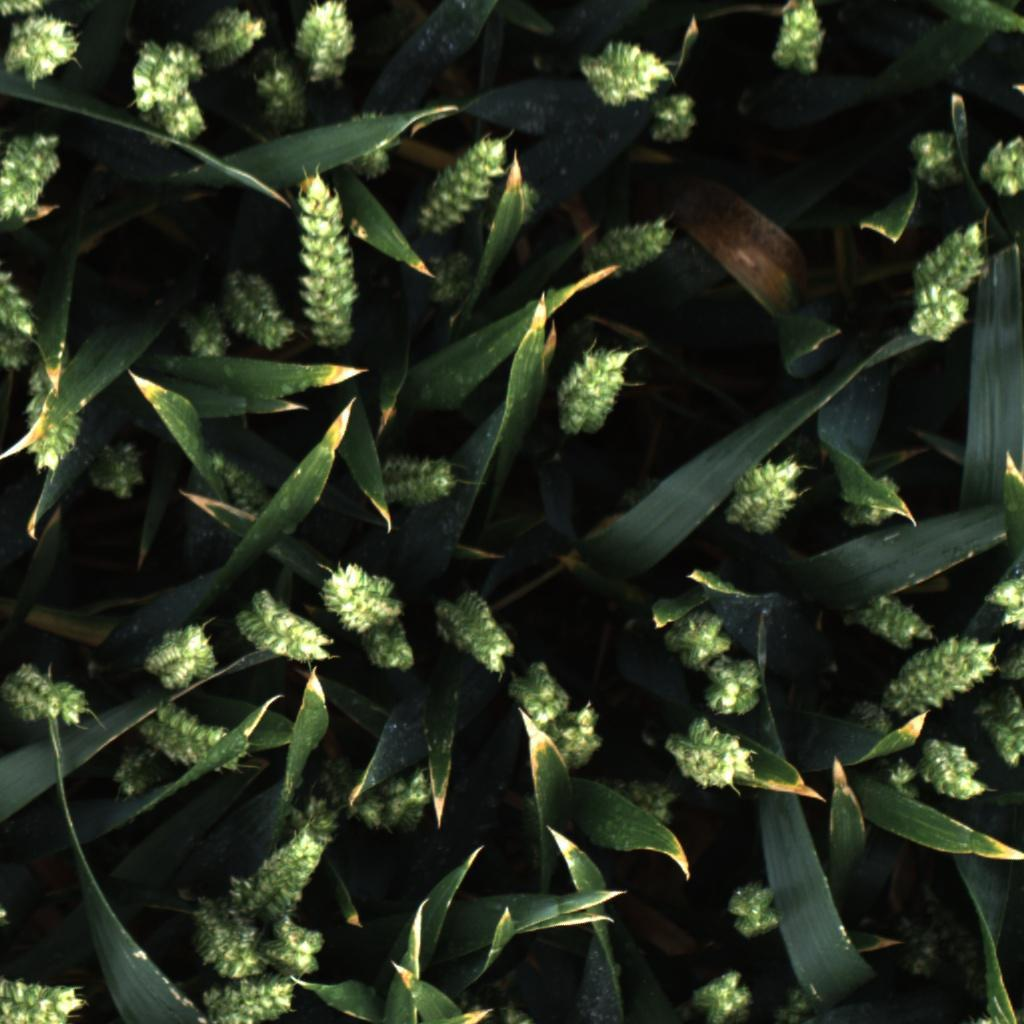0-0: (289, 174, 368, 347), (120, 38, 212, 152), (878, 636, 994, 722), (23, 326, 88, 476), (415, 134, 513, 231), (136, 698, 252, 776), (236, 822, 336, 908), (233, 587, 332, 669), (576, 36, 682, 112), (577, 208, 684, 283), (658, 721, 762, 798), (435, 581, 521, 673), (553, 347, 636, 441), (312, 551, 411, 628), (717, 456, 811, 536), (222, 266, 300, 355), (285, 0, 361, 89), (328, 104, 408, 188), (0, 15, 86, 88), (0, 131, 67, 223), (191, 902, 270, 979), (199, 967, 305, 1024), (936, 895, 1002, 986), (763, 0, 836, 81), (138, 623, 226, 690), (505, 658, 579, 735), (850, 582, 933, 650), (194, 0, 274, 70), (913, 219, 992, 288), (873, 907, 937, 991), (374, 448, 457, 512), (546, 699, 617, 773), (658, 601, 740, 665), (360, 769, 439, 835), (209, 444, 278, 519), (906, 122, 976, 195), (591, 778, 684, 832), (0, 972, 96, 1024), (247, 40, 308, 119), (719, 877, 793, 941), (698, 658, 775, 719), (916, 735, 986, 802), (687, 961, 760, 1024), (264, 910, 330, 978), (836, 470, 912, 529), (108, 738, 175, 802), (354, 614, 417, 681), (87, 441, 152, 504), (909, 282, 971, 348), (419, 248, 485, 310), (976, 683, 1024, 767), (643, 86, 708, 147), (172, 306, 236, 365), (0, 663, 61, 724), (0, 248, 39, 343), (977, 128, 1024, 203), (839, 697, 899, 742), (983, 566, 1024, 629), (509, 175, 549, 237), (53, 679, 97, 735), (765, 985, 825, 1024), (881, 758, 925, 804), (0, 323, 37, 375), (1000, 626, 1024, 694), (0, 0, 74, 18), (486, 1004, 543, 1024)
